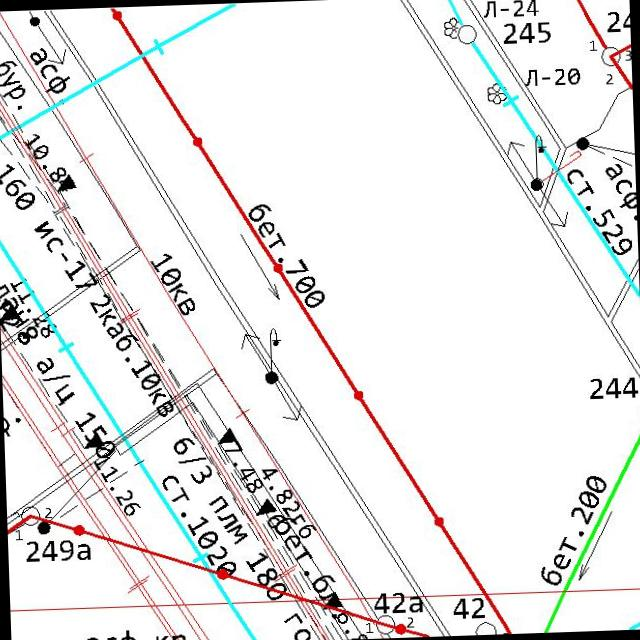asphalt: (29, 46, 72, 107)
bushes: (486, 80, 508, 106), (442, 16, 463, 40)
mark: (54, 172, 78, 194), (320, 590, 344, 612), (255, 496, 278, 517), (216, 426, 237, 446), (82, 432, 105, 449), (0, 302, 20, 321)
well: (599, 44, 622, 68), (18, 504, 41, 527), (456, 22, 478, 46), (374, 612, 396, 636)
